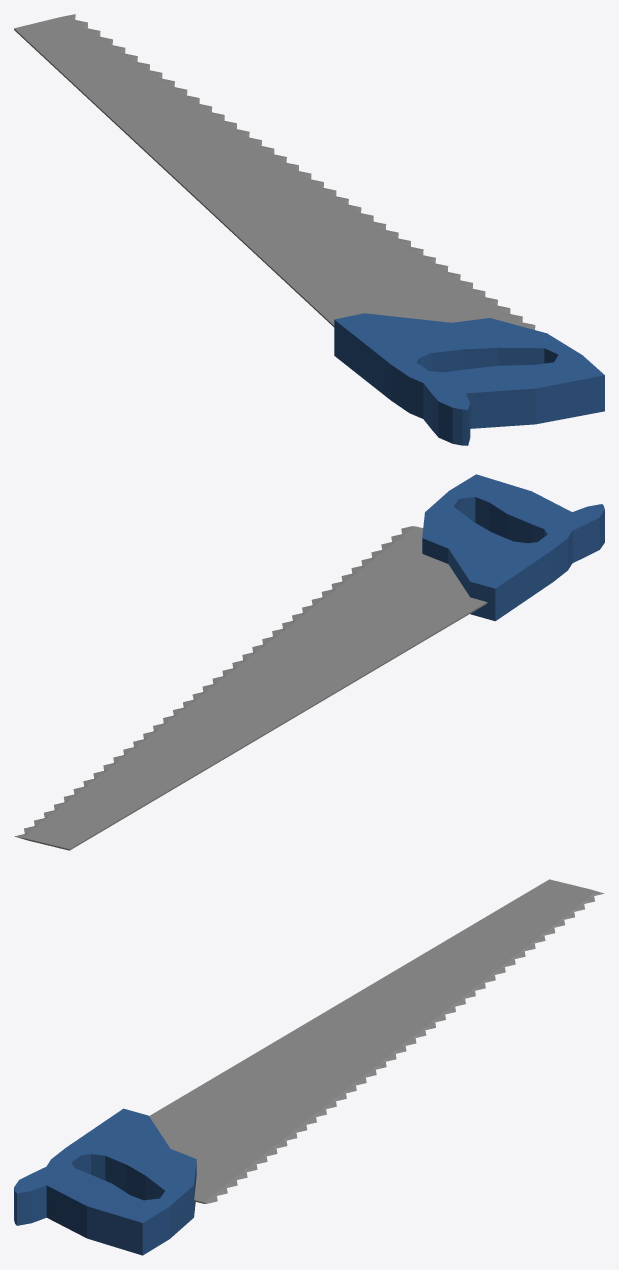
File: Saw.fbx
3 renders of one model, top to bottom at view 1: azimuth 30°, elevation 25°; view 2: azimuth 150°, elevation 25°; view 3: azimuth 330°, elevation 25°, orthographic. The views are drawn at different scales.
Parts seen in each view (by area): view 1: Saw; view 2: Saw; view 3: Saw.
Boxes of the visible parts, box(x1,y1,x2,y2) form: Saw: box(14, 14, 604, 445); Saw: box(14, 474, 604, 850); Saw: box(14, 879, 604, 1255).
Size of the model in its own units: 21.76 by 4.39 by 115.
